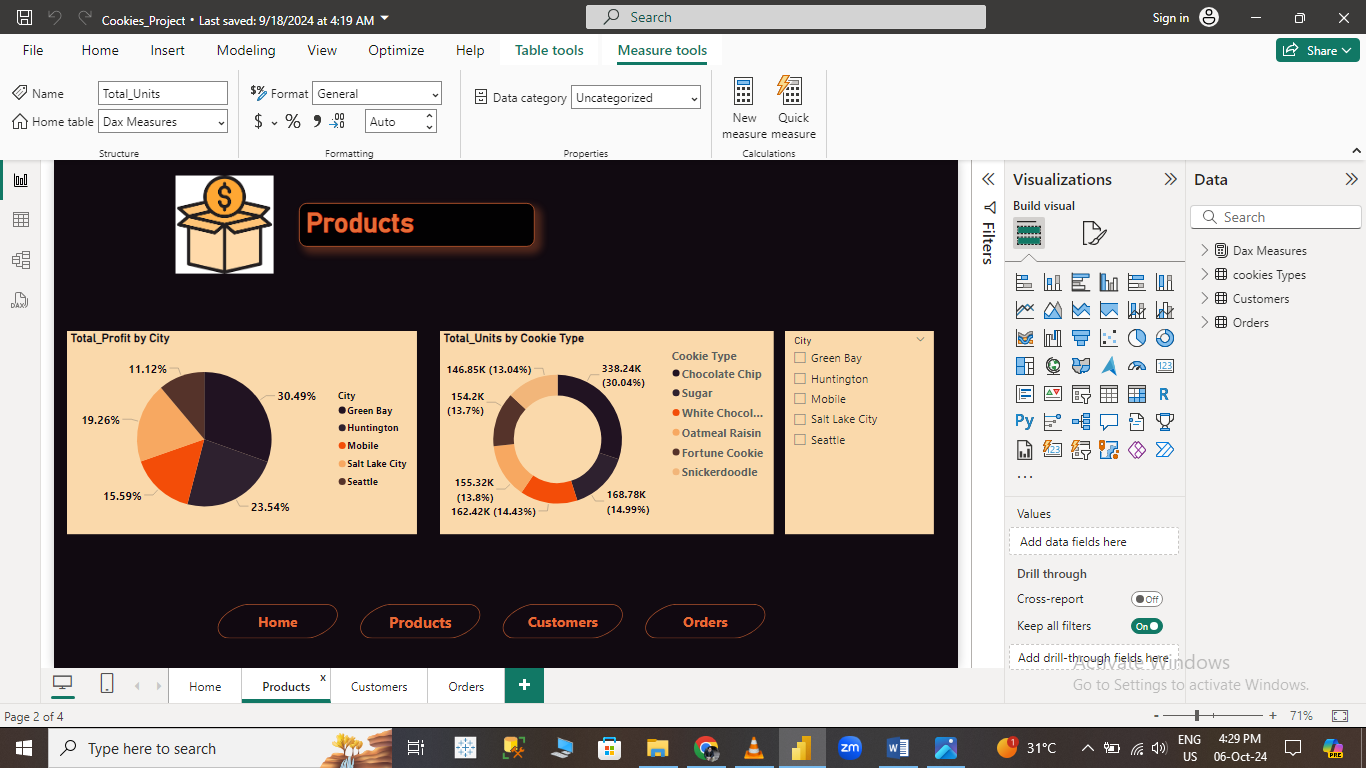

This screenshot's page, from the dashboard's own definition file:
{"tool":"powerbi","page":{"name":"Products","canvas":[1280,720],"ordinal":1},"visuals":[{"type":"pageNavigator","box":[221.1,629.3,799.4,49.6],"z":0},{"type":"pieChart","fields":{"Y":["Dax Measures.Total_Profit"],"Series":["Customers.City"]},"box":[18.4,242.4,496.1,287.7],"z":1000},{"type":"donutChart","fields":{"Category":["cookies Types.Cookie Type"],"Y":["Dax Measures.Total_Units"]},"box":[547.1,242.4,473.4,287.7],"z":2000},{"type":"image","box":[150.2,17,182.8,148.8],"z":3000},{"type":"textbox","title":"Products","box":[347.2,60.9,334.5,62.4],"z":4000},{"type":"slicer","fields":{"Values":["Customers.City"]},"box":[1036.1,242.4,211.2,287.7],"z":5000}]}

Visuals, with their boxes on the page's 1280x720 design canvas (x1, y1, x2, y2). These are canvas units, not pixel positions in the 1366x768 screenshot, which may show the page scaled, cropped or inside an application window:
pageNavigator: [221, 629, 1020, 679]
pieChart - Dax Measures.Total_Profit x Customers.City: [18, 242, 514, 530]
donutChart - cookies Types.Cookie Type x Dax Measures.Total_Units: [547, 242, 1020, 530]
image: [150, 17, 333, 166]
"Products" textbox: [347, 61, 682, 123]
slicer - Customers.City: [1036, 242, 1247, 530]
